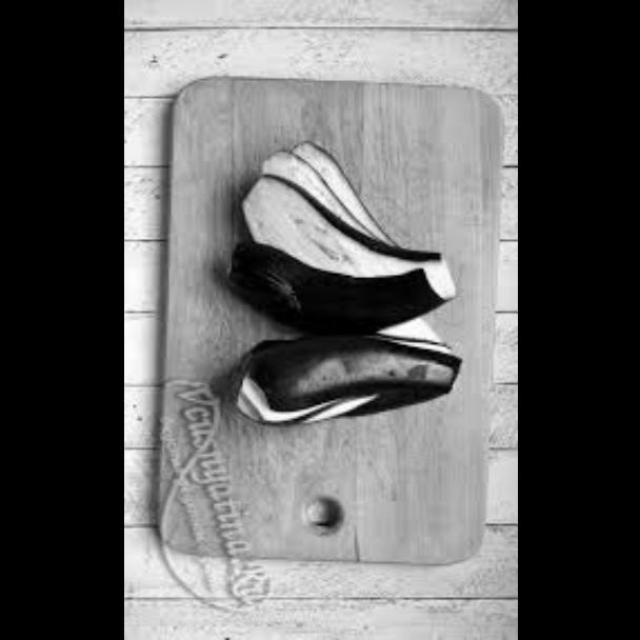eggplant: (219, 154, 482, 338), (220, 307, 477, 459)
